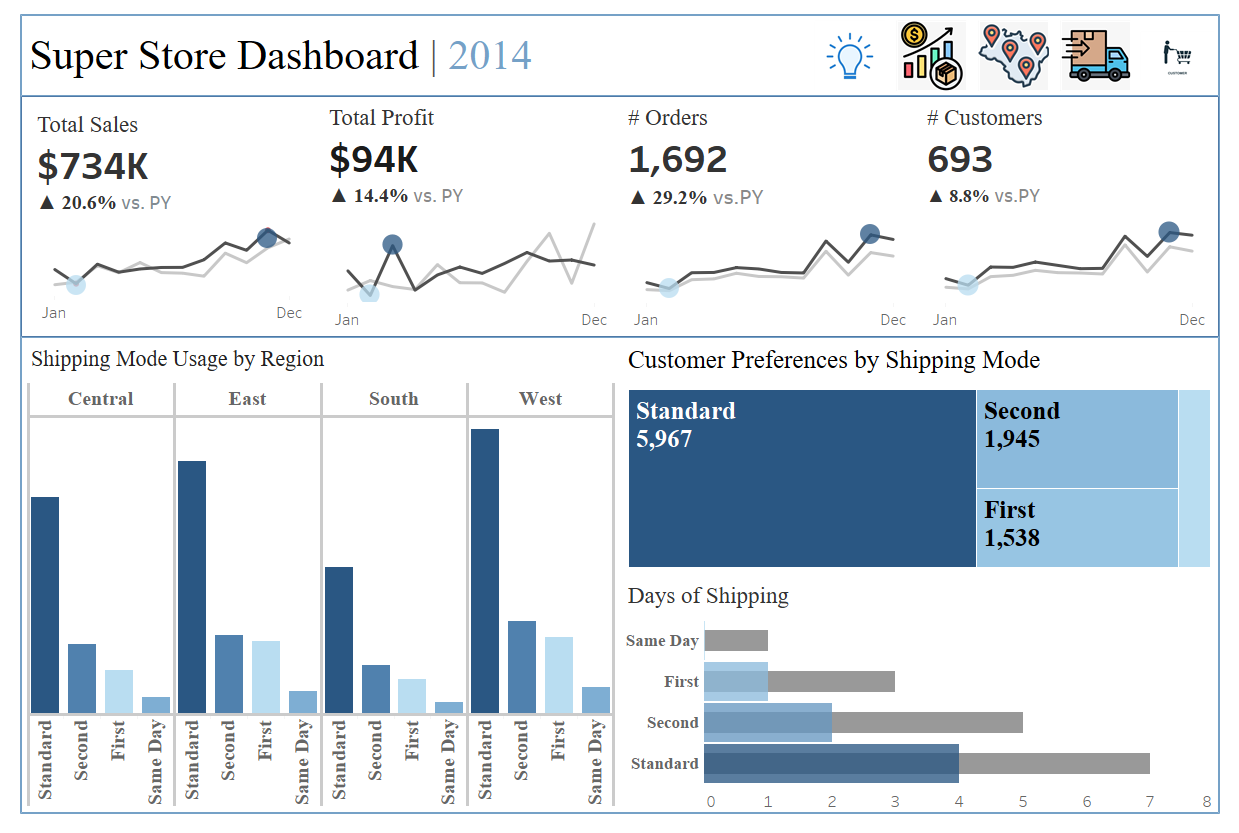

This screenshot's page, from the dashboard's own definition file:
{"tool":"tableau","page":{"name":"Super_Store_Dashboard 0","canvas":[1200,800],"ordinal":0},"visuals":[{"type":"text","box":[2,2,786,79]},{"type":"dashboard-object","box":[788,2,82,79]},{"type":"dashboard-object","box":[870,2,82,79]},{"type":"dashboard-object","box":[952,2,82,79]},{"type":"dashboard-object","box":[1034,2,82,79]},{"type":"dashboard-object","box":[1116,2,82,79]},{"type":"parameter","param":"[Parameters].[Order Year Parameter]","box":[564,15,154,35.9]},{"type":"legend","title":"Sales & Profit Over Time","param":"[federated.1f1h3uc1jm1pvb1bxfcov0sczj9y].[usr:Calculation_1391330877273645061:nk","box":[564,50.9,154,35.9]},{"type":"worksheet","title":"KPI Sales 0","mark":"Line","rows":["Sales","Min/Max Sales (copy)_3207407427292659714"],"cols":["Order Period"],"box":[2,83,299,237]},{"type":"worksheet","title":"KPI Profit 0","mark":"Line","rows":["Profit","Min/Max Sales 0 (copy)_3207407427297476611"],"cols":["Order Period"],"box":[301,83,299,237]},{"type":"worksheet","title":"KPI Orders 0 ","mark":"Automatic","rows":["Order ID","Min/Max Customers (copy)_3207407427299741704"],"cols":["Order Period"],"box":[600,83,299,237]},{"type":"worksheet","title":"KPI Customer 0","mark":"Line","rows":["Customer ID","Min/Max Order 0 (copy)_3207407427302547466"],"cols":["Order Period"],"box":[899,83,299,237]},{"type":"legend","title":"Sales & Profit Over Time","param":"[federated.1f1h3uc1jm1pvb1bxfcov0sczj9y].[usr:KPI Sales Avg (copy)_1391330877274","box":[564,86.7,154,35.9]},{"type":"legend","title":"KPI Sales 0","param":"[federated.1f1h3uc1jm1pvb1bxfcov0sczj9y].[usr:Min/Max Sales (copy)_3207407427292","box":[564,122.6,154,35.9]},{"type":"legend","title":"KPI Profit 0","param":"[federated.1f1h3uc1jm1pvb1bxfcov0sczj9y].[usr:Min/Max Sales 0 (copy)_32074074272","box":[564,158.4,154,35.9]},{"type":"legend","title":"KPI Customer 0","param":"[federated.1f1h3uc1jm1pvb1bxfcov0sczj9y].[usr:Min/Max Order 0 (copy)_32074074273","box":[564,194.3,154,35.9]},{"type":"legend","title":"KPI Orders 0 ","param":"[federated.1f1h3uc1jm1pvb1bxfcov0sczj9y].[usr:Min/Max Customers (copy)_320740742","box":[564,230.1,154,35.9]},{"type":"worksheet","title":"Sales & Profit Over Time","mark":"Line","rows":["Sales","Profit"],"cols":["Order Period"],"box":[2,322,1196,476]}]}

Visuals, with their boxes in screenshot pixels (x1, y1, x2, y2), scaled from the page's 1200x800 canvas onto the 1239x833 screenshot:
text: <box>2,2,814,84</box>
dashboard-object: <box>814,2,898,84</box>
dashboard-object: <box>898,2,983,84</box>
dashboard-object: <box>983,2,1068,84</box>
dashboard-object: <box>1068,2,1152,84</box>
dashboard-object: <box>1152,2,1237,84</box>
parameter: <box>582,16,741,53</box>
"Sales & Profit Over Time" legend: <box>582,53,741,90</box>
"KPI Sales 0" worksheet (Line marks): <box>2,86,311,333</box>
"KPI Profit 0" worksheet (Line marks): <box>311,86,620,333</box>
"KPI Orders 0 " worksheet: <box>620,86,928,333</box>
"KPI Customer 0" worksheet (Line marks): <box>928,86,1237,333</box>
"Sales & Profit Over Time" legend: <box>582,90,741,128</box>
"KPI Sales 0" legend: <box>582,128,741,165</box>
"KPI Profit 0" legend: <box>582,165,741,202</box>
"KPI Customer 0" legend: <box>582,202,741,240</box>
"KPI Orders 0 " legend: <box>582,240,741,277</box>
"Sales & Profit Over Time" worksheet (Line marks): <box>2,335,1237,831</box>
